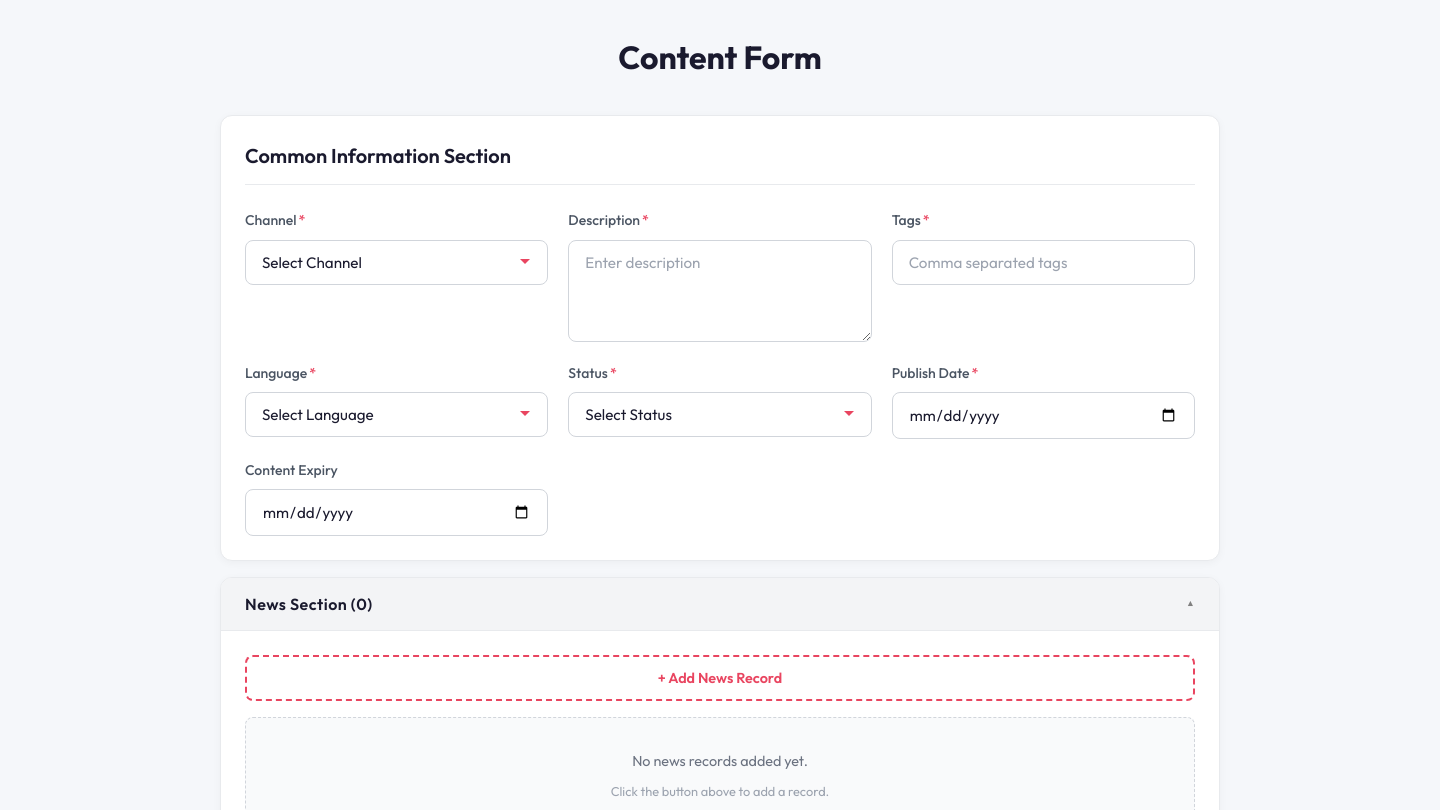
FormPage › opens modal when Add Record button is clicked
The image size is (1440, 810).
Click the button "+ Add News Record": (720, 678) [245,655,1195,701]
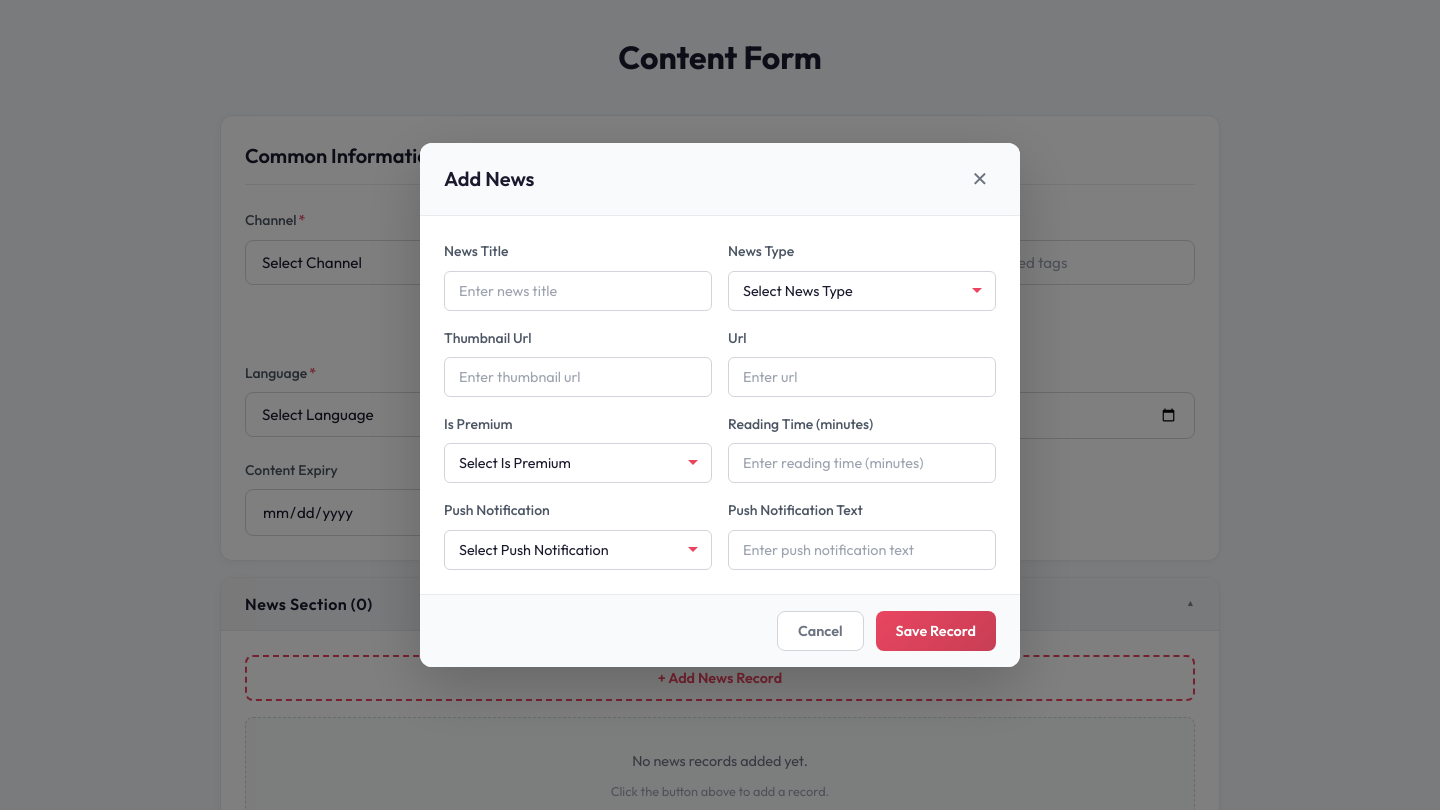
Check: the heading "Add News" is shown, box [444,163,534,195]
